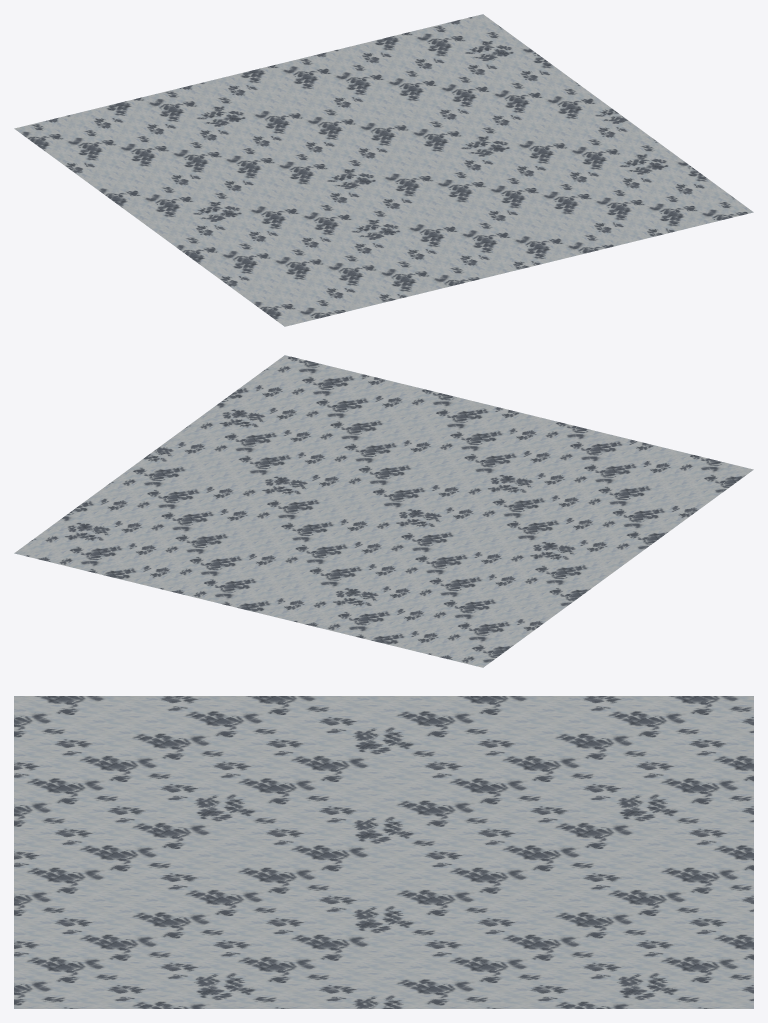
The model's file is oTerrainGroundMap01.FBX.
3 renders of one model, top to bottom at view 1: azimuth 30°, elevation 25°; view 2: azimuth 150°, elevation 25°; view 3: azimuth 270°, elevation 25°, orthographic. The views are drawn at different scales.
Visible parts, largest first — view 1: oTerrainGroundMap01; view 2: oTerrainGroundMap01; view 3: oTerrainGroundMap01.
Part boxes in pixels (x1=…): oTerrainGroundMap01: x1=14, y1=14, x2=753, y2=326; oTerrainGroundMap01: x1=14, y1=355, x2=753, y2=667; oTerrainGroundMap01: x1=14, y1=696, x2=753, y2=1008.
Bounding box in the file's own units: 658 × 1.86e-13 × 658.
Materials: 1 (1 with a texture image).
